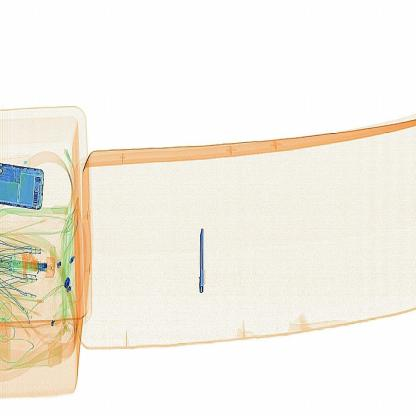pliers: (189, 213, 213, 302)
